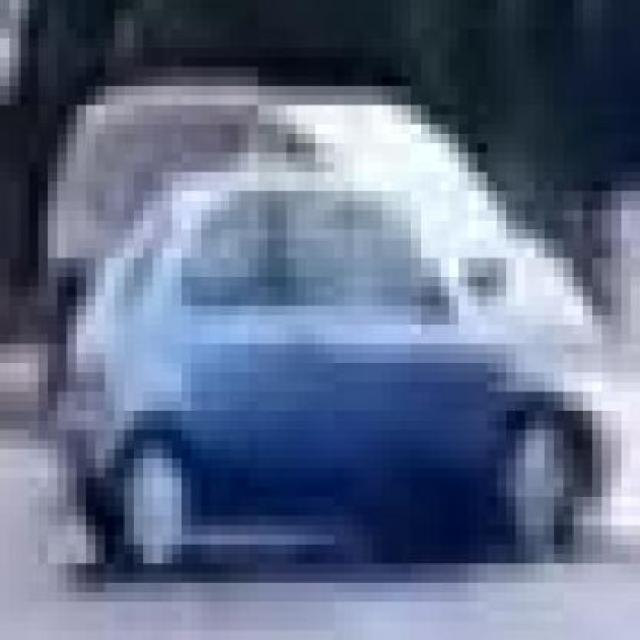accident: (35, 67, 610, 568)
